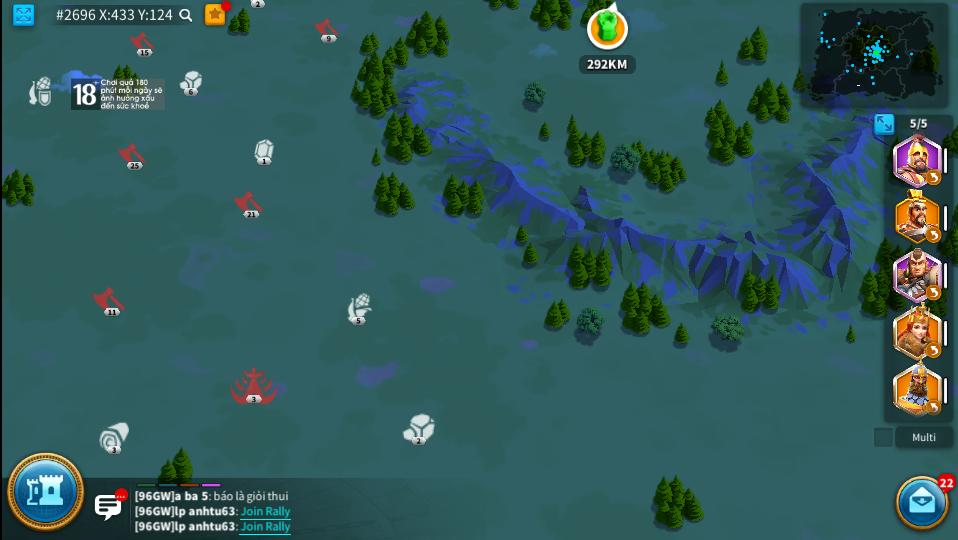gem-z-out: (252, 138, 274, 166)
march_returning: (925, 228, 942, 242), (926, 170, 940, 185), (927, 400, 941, 415), (926, 285, 940, 299), (928, 343, 940, 357)
